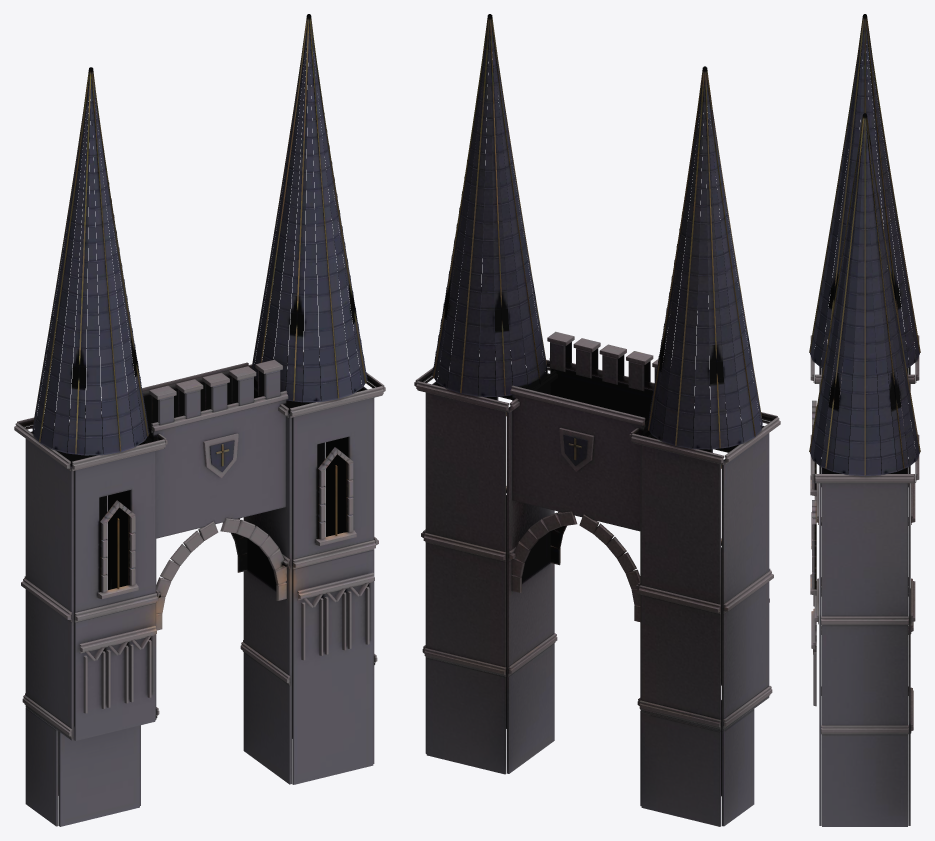
The model's file is gatehouse_skin.glb.
3 views of the same model, side by side, from view 1: azimuth 30°, elevation 25°; view 2: azimuth 150°, elevation 25°; view 3: azimuth 270°, elevation 25° (orthographic). The views are drawn at different scales.
Parts seen in each view (by area): view 1: gatehouse_skin.001; view 2: gatehouse_skin.001; view 3: gatehouse_skin.001.
Boxes of the visible parts, x1,y1,x2,y2 form: gatehouse_skin.001: (14, 14, 385, 826); gatehouse_skin.001: (414, 14, 780, 826); gatehouse_skin.001: (809, 14, 920, 826).
Size of the model in its own units: 12.1 by 26.71 by 3.9.
1 material, 1 textured.
